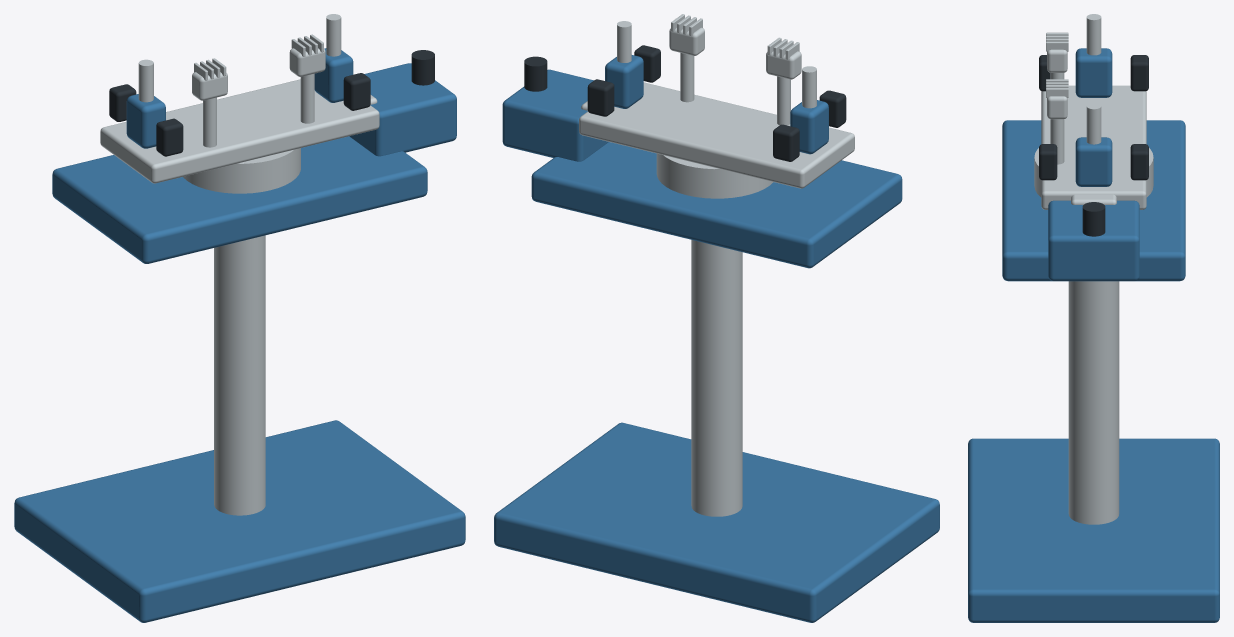
Rendered from squash-club-and-racket-workshop-racket-stringing-machi-bc5c4aa6__29755.glb.
3 renders of one model, left to right at view 1: azimuth 30°, elevation 25°; view 2: azimuth 150°, elevation 25°; view 3: azimuth 270°, elevation 25°, orthographic. The views are drawn at different scales.
Visible parts, largest first — view 1: racket-stringing-machine; view 2: racket-stringing-machine; view 3: racket-stringing-machine.
Part boxes in pixels (left/top/right/bottom): racket-stringing-machine: left=14, top=14, right=465, bottom=622; racket-stringing-machine: left=494, top=14, right=939, bottom=622; racket-stringing-machine: left=968, top=14, right=1219, bottom=622.
Bounding box in the file's own units: 0.88 × 1.17 × 0.55.
